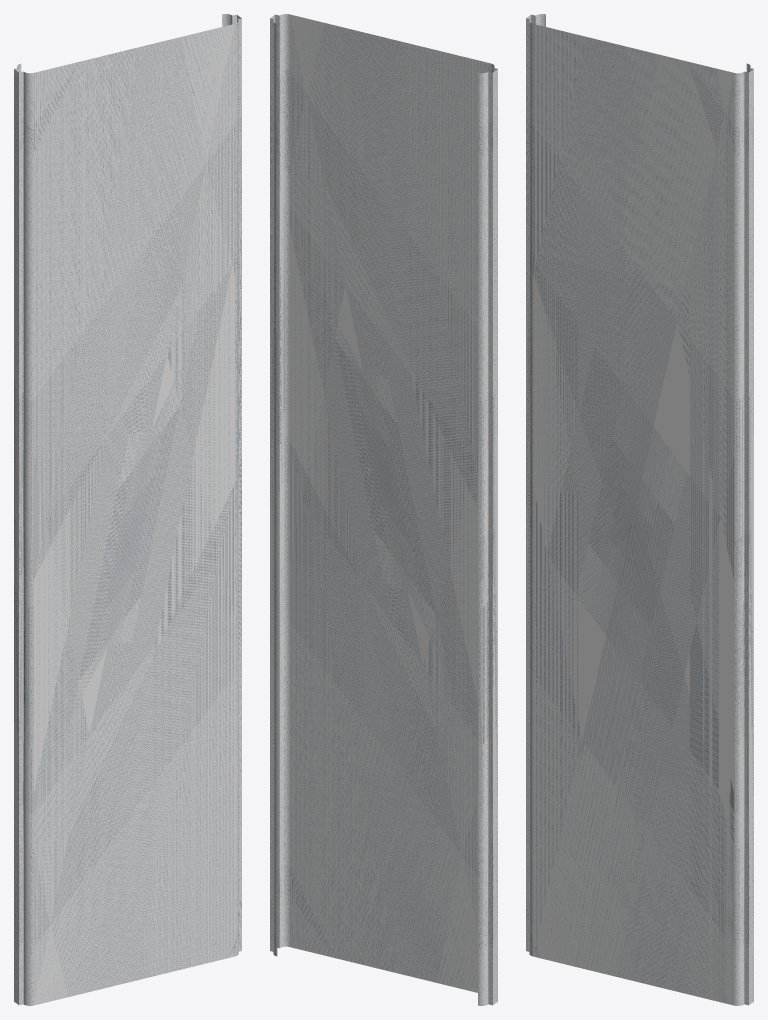
File: PW_DoubleFixElem_os_T1_100x010x400.dae
3 views of the same model, side by side, from view 1: azimuth 30°, elevation 25°; view 2: azimuth 150°, elevation 25°; view 3: azimuth 330°, elevation 25° (orthographic).
Parts seen in each view (by area): view 1: group_0; view 2: group_0; view 3: group_0.
Boxes of the visible parts, <box> form: group_0: <box>14,14,241,1005</box>; group_0: <box>270,14,497,1005</box>; group_0: <box>526,14,753,1005</box>.
Size of the model in its own units: 39.37 by 3.94 by 157.
